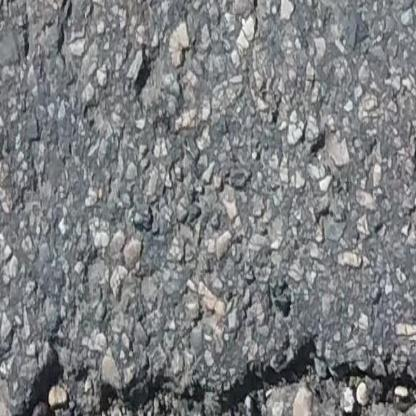Cracks: (0, 344, 332, 416), (340, 366, 416, 416)
